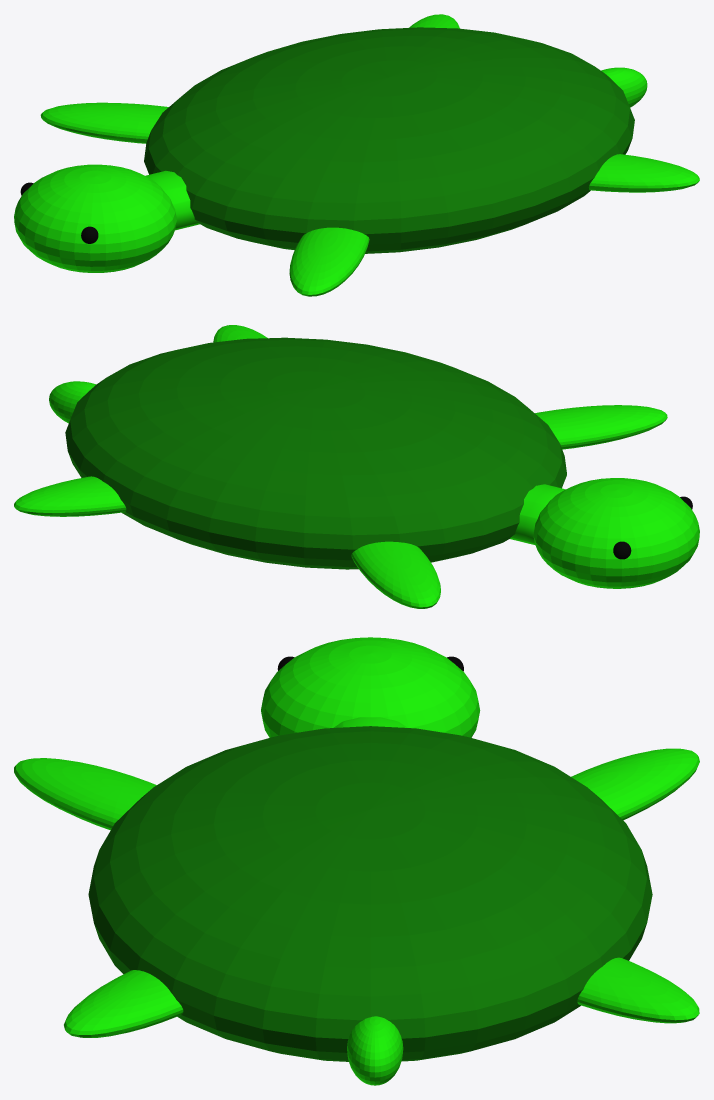
Rendered from Tortuga.fbx.
The picture shows the model from 3 angles, top to bottom: view 1: azimuth 30°, elevation 25°; view 2: azimuth 150°, elevation 25°; view 3: azimuth 270°, elevation 25°; orthographic projection. The views are drawn at different scales.
Visible parts, largest first — view 1: Esfera.001, Esfera.002, Esfera.003, Esfera.004, Esfera.006, MetaBola, Esfera.007, Esfera.005; view 2: Esfera.001, Esfera.002, Esfera.004, Esfera.003, Esfera.005, MetaBola, Esfera.007, Esfera.006; view 3: Esfera.001, Esfera.002, Esfera.003, Esfera.004, Esfera.006, Esfera.005, Esfera.007.
Boxes of the visible parts, x1,y1,x2,y2 form: Esfera.001: (144, 27, 634, 253); Esfera.002: (14, 164, 176, 272); Esfera.003: (289, 227, 369, 296); Esfera.004: (40, 102, 168, 143); Esfera.006: (588, 154, 699, 192); MetaBola: (146, 170, 199, 230); Esfera.007: (601, 67, 647, 107); Esfera.005: (409, 14, 459, 28); Esfera.001: (65, 337, 566, 569); Esfera.002: (533, 478, 699, 588); Esfera.004: (351, 541, 440, 608); Esfera.003: (535, 405, 667, 449); Esfera.005: (14, 476, 126, 516); MetaBola: (510, 484, 565, 544); Esfera.007: (49, 381, 96, 423); Esfera.006: (213, 325, 267, 342); Esfera.001: (88, 726, 652, 1061); Esfera.002: (261, 637, 480, 737); Esfera.003: (14, 758, 156, 830); Esfera.004: (571, 748, 699, 820); Esfera.006: (64, 970, 183, 1037); Esfera.005: (577, 957, 699, 1023); Esfera.007: (347, 1016, 403, 1085).
Size of the model in its own units: 308 by 60 by 219.
